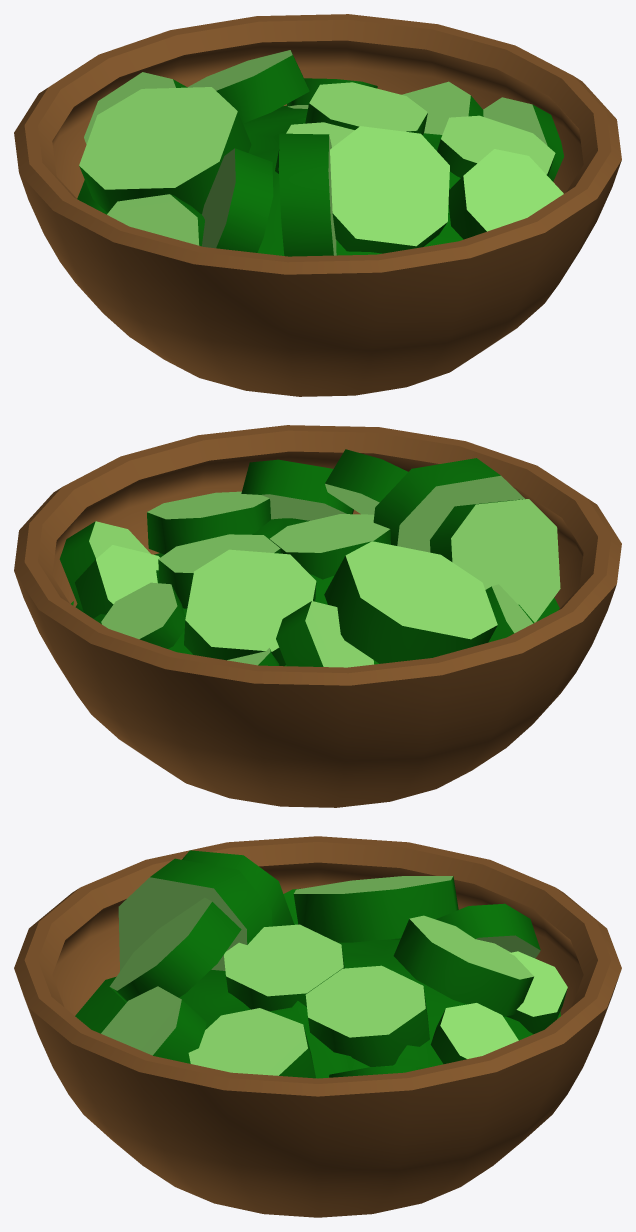
Rendered from mesh_cucumber_bowl_full.fbx.
3 renders of one model, top to bottom at view 1: azimuth 30°, elevation 25°; view 2: azimuth 150°, elevation 25°; view 3: azimuth 270°, elevation 25°, orthographic.
Visible parts, largest first — view 1: mesh_cucumber_bowl_empty, mesh_cucumber_contents1; view 2: mesh_cucumber_bowl_empty, mesh_cucumber_contents1; view 3: mesh_cucumber_bowl_empty, mesh_cucumber_contents1.
Part boxes in pixels (box(x1,y1,x2,y2)): mesh_cucumber_bowl_empty: box(14, 14, 621, 396); mesh_cucumber_contents1: box(77, 50, 563, 256); mesh_cucumber_bowl_empty: box(14, 425, 621, 807); mesh_cucumber_contents1: box(59, 449, 560, 667); mesh_cucumber_bowl_empty: box(14, 836, 621, 1217); mesh_cucumber_contents1: box(75, 850, 567, 1078).
Size of the model in its own units: 0.2166 by 0.0929 by 0.2167.
